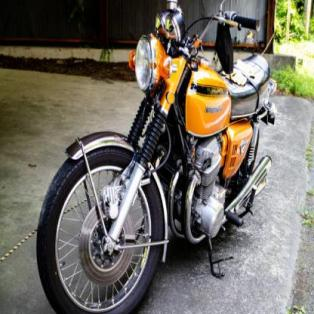Motocicleta: (29, 0, 284, 313)
